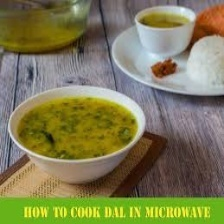dal: (11, 87, 145, 162)
